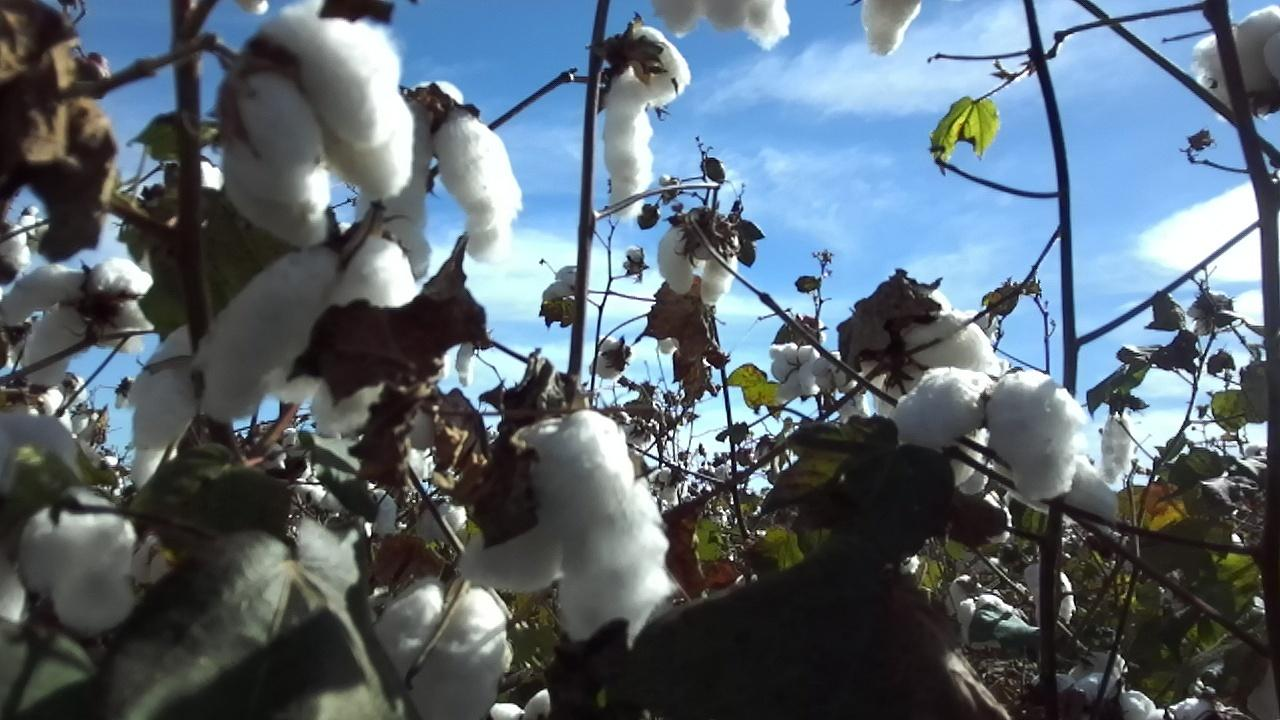cotton_ready: (219, 0, 416, 249), (469, 414, 673, 648), (197, 237, 417, 429), (357, 75, 519, 274), (869, 315, 1001, 491), (0, 255, 152, 388), (22, 487, 156, 632), (379, 585, 517, 720), (602, 25, 689, 218), (118, 325, 200, 483), (985, 370, 1085, 499), (1189, 4, 1280, 117), (889, 367, 980, 453), (657, 218, 739, 305), (654, 0, 792, 47), (862, 0, 926, 55), (770, 342, 826, 393), (1099, 412, 1129, 487)
